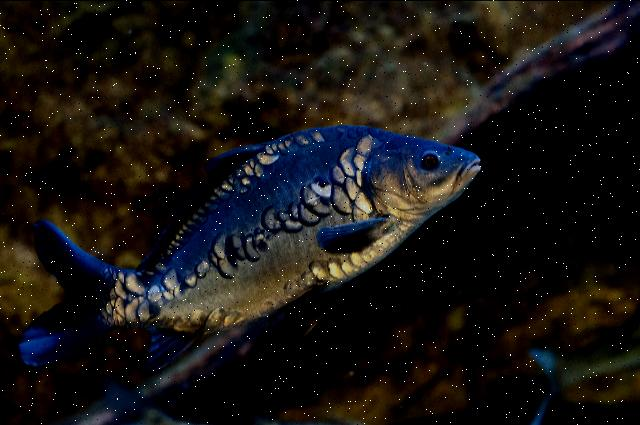Mulut: (441, 141, 509, 203)
Sirip Anal: (128, 312, 212, 384)
Sirip Dada: (306, 202, 399, 268)
Sirip Ekor: (8, 208, 142, 384)
Sirip Perut: (264, 270, 348, 348)
Sirip Punggung: (128, 130, 286, 272)
